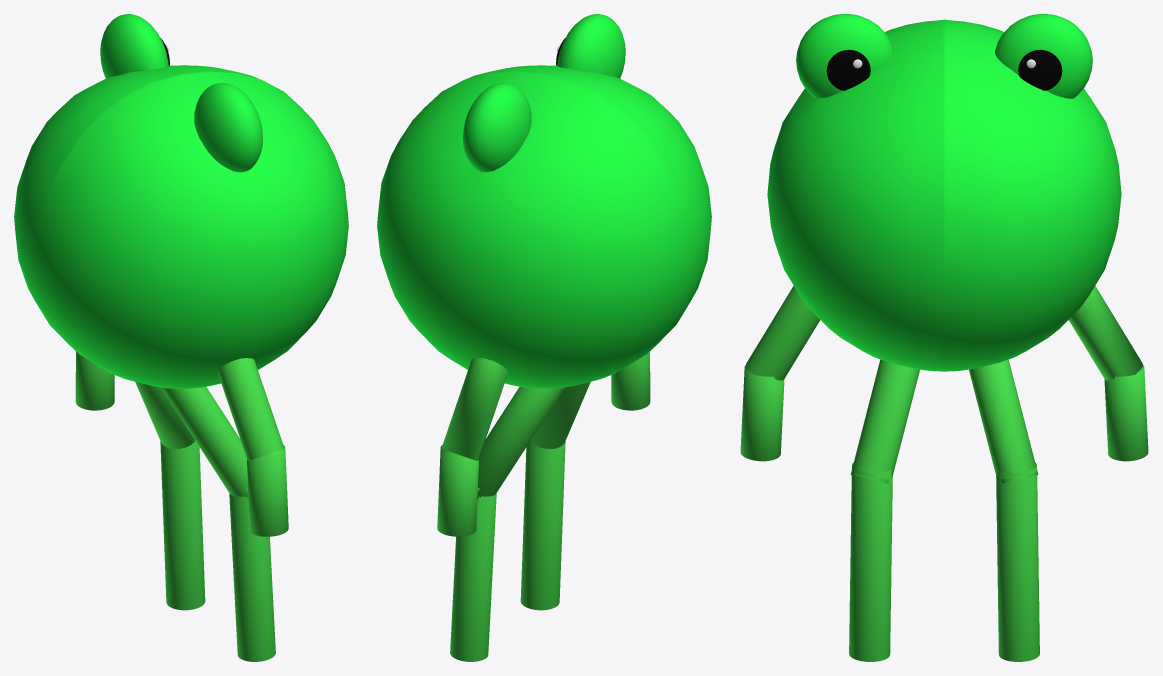
File: Ranitaweird2.fbx
3 renders of one model, left to right at view 1: azimuth 30°, elevation 25°; view 2: azimuth 150°, elevation 25°; view 3: azimuth 270°, elevation 25°, orthographic. The views are drawn at different scales.
Parts seen in each view (by area): view 1: Esfera, Cilindro.002, Cilindro.003, Cilindro, Cilindro.001; view 2: Esfera, Cilindro.002, Cilindro.003, Cilindro, Cilindro.001; view 3: Esfera, Cilindro.002, Cilindro.003, Cilindro, Cilindro.001, Esfera.001.
Part boxes in pixels (x1,y1,x2,y2): Esfera: [14, 14, 348, 388]; Cilindro.002: [160, 440, 275, 661]; Cilindro.003: [135, 381, 248, 500]; Cilindro: [75, 351, 288, 536]; Cilindro.001: [218, 358, 284, 460]; Esfera: [377, 14, 711, 388]; Cilindro.002: [450, 440, 565, 661]; Cilindro.003: [477, 381, 590, 500]; Cilindro: [437, 351, 650, 536]; Cilindro.001: [441, 358, 507, 460]; Esfera: [767, 14, 1121, 371]; Cilindro.002: [849, 463, 1039, 661]; Cilindro.003: [850, 359, 1038, 483]; Cilindro: [740, 365, 1148, 461]; Cilindro.001: [746, 286, 1142, 380]; Esfera.001: [826, 49, 1062, 90].
Size of the model in its own units: 200 by 385 by 230.
